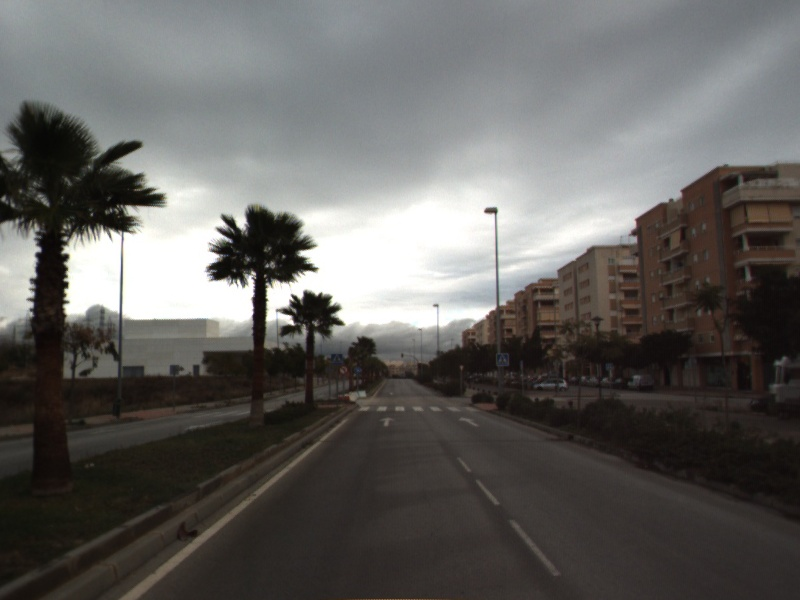STRAIGHT: (457, 415, 482, 429), (377, 415, 397, 428)
